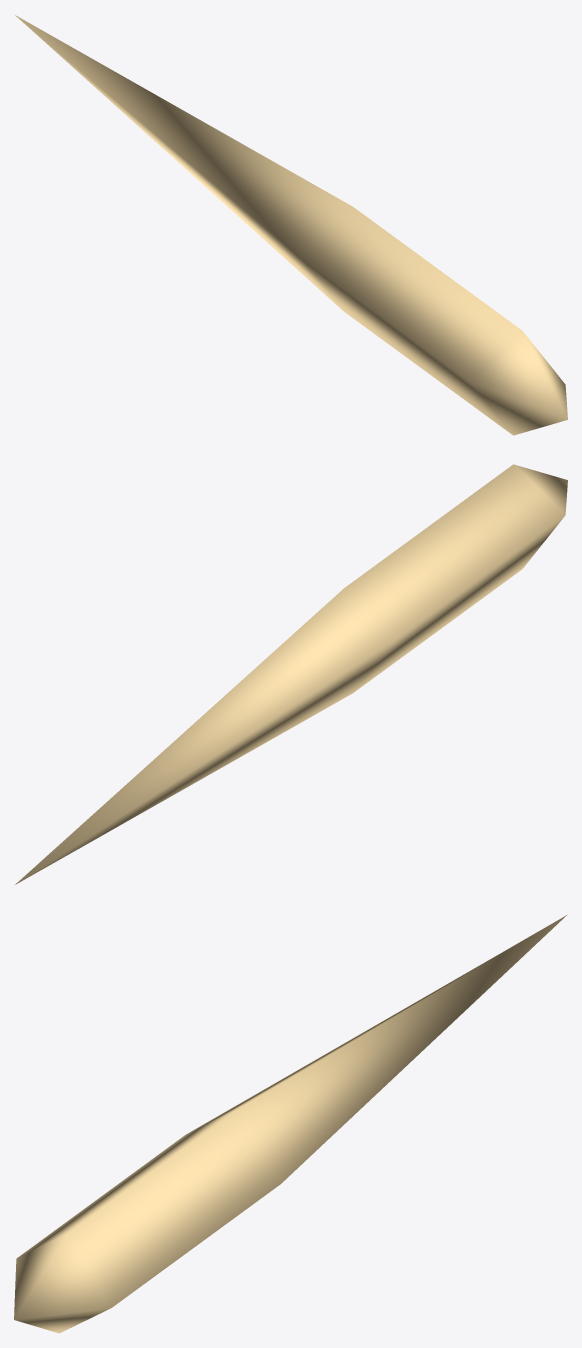
The model's file is projectile_bullet.fbx.
3 views of the same model, one above another, from view 1: azimuth 30°, elevation 25°; view 2: azimuth 150°, elevation 25°; view 3: azimuth 330°, elevation 25° (orthographic).
Visible parts, largest first — view 1: pCube1; view 2: pCube1; view 3: pCube1.
Part boxes in pixels (left/top/right/bottom): pCube1: left=15, top=15, right=567, bottom=435; pCube1: left=15, top=464, right=567, bottom=884; pCube1: left=14, top=915, right=566, bottom=1333.
Bounding box in the file's own units: 0.1986 × 0.2045 × 2.
Materials: 1 (1 with a texture image).
